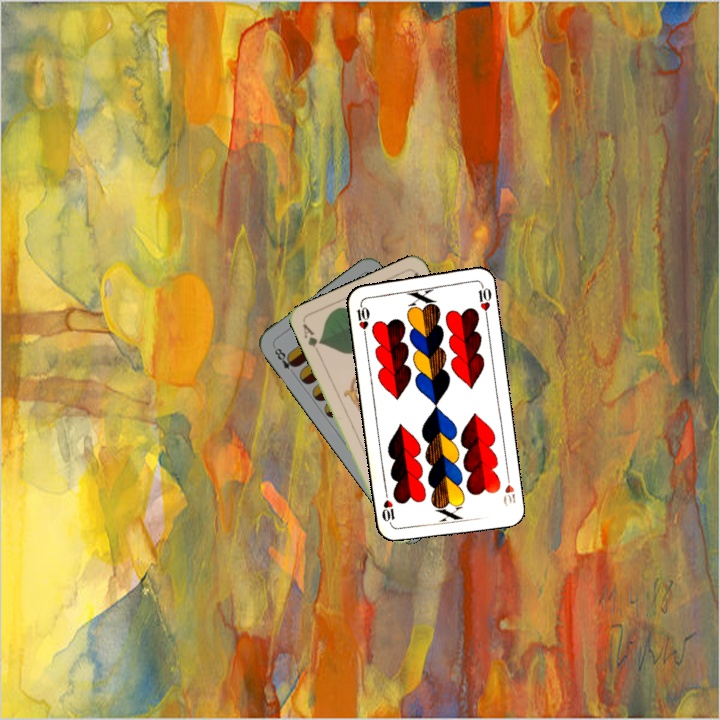E8: (269, 342, 299, 378)
GA: (298, 320, 324, 357)
H10: (353, 298, 372, 338), (499, 469, 518, 509)
